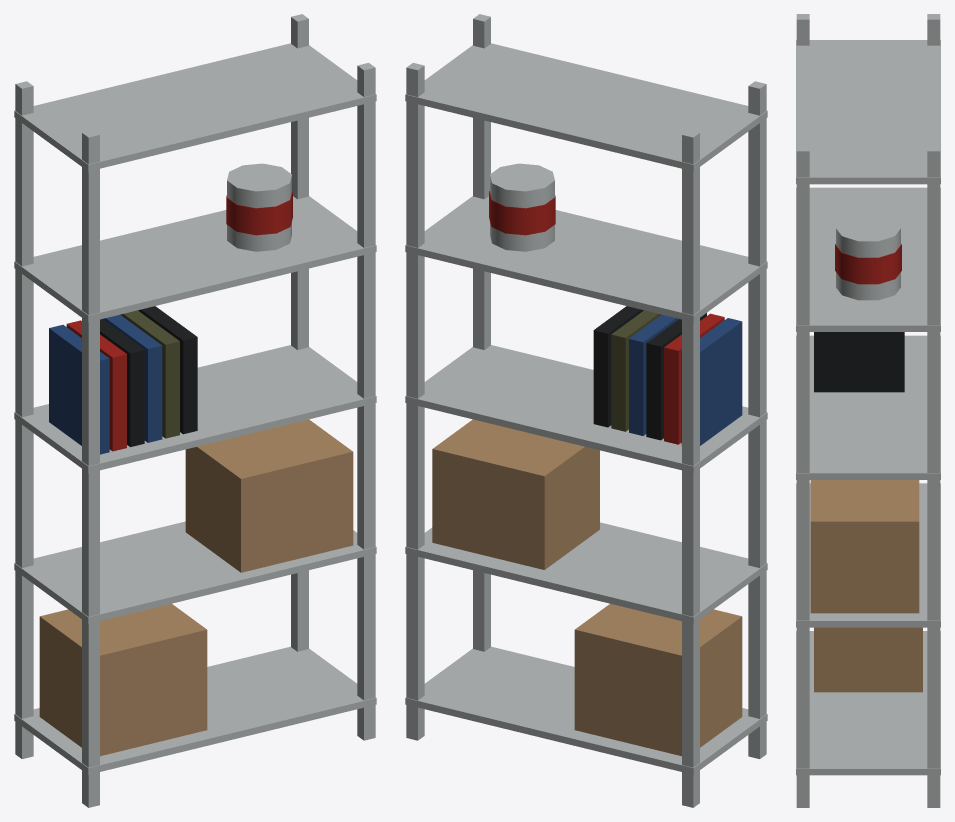
Rendered from shelving.glb.
The picture shows the model from 3 angles, left to right: view 1: azimuth 30°, elevation 25°; view 2: azimuth 150°, elevation 25°; view 3: azimuth 270°, elevation 25°; orthographic projection. The views are drawn at different scales.
Parts seen in each view (by area): view 1: shelving; view 2: shelving; view 3: shelving.
Boxes of the visible parts, x1=… form: shelving: x1=14, y1=14, x2=376, y2=807; shelving: x1=405, y1=14, x2=767, y2=807; shelving: x1=796, y1=14, x2=940, y2=807.
Size of the model in its own units: 0.9 by 2 by 0.4.
1 material, 1 textured.
